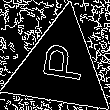P_W: (33, 45, 87, 90)
